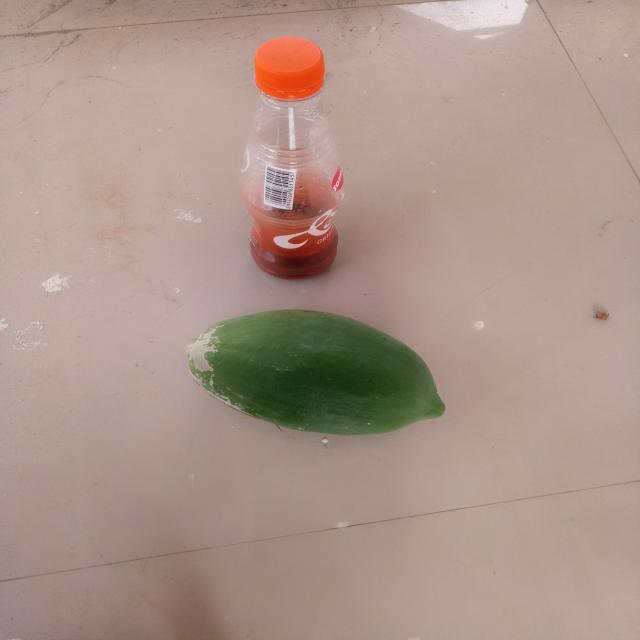Pepaya unrippen: (178, 310, 452, 438)
